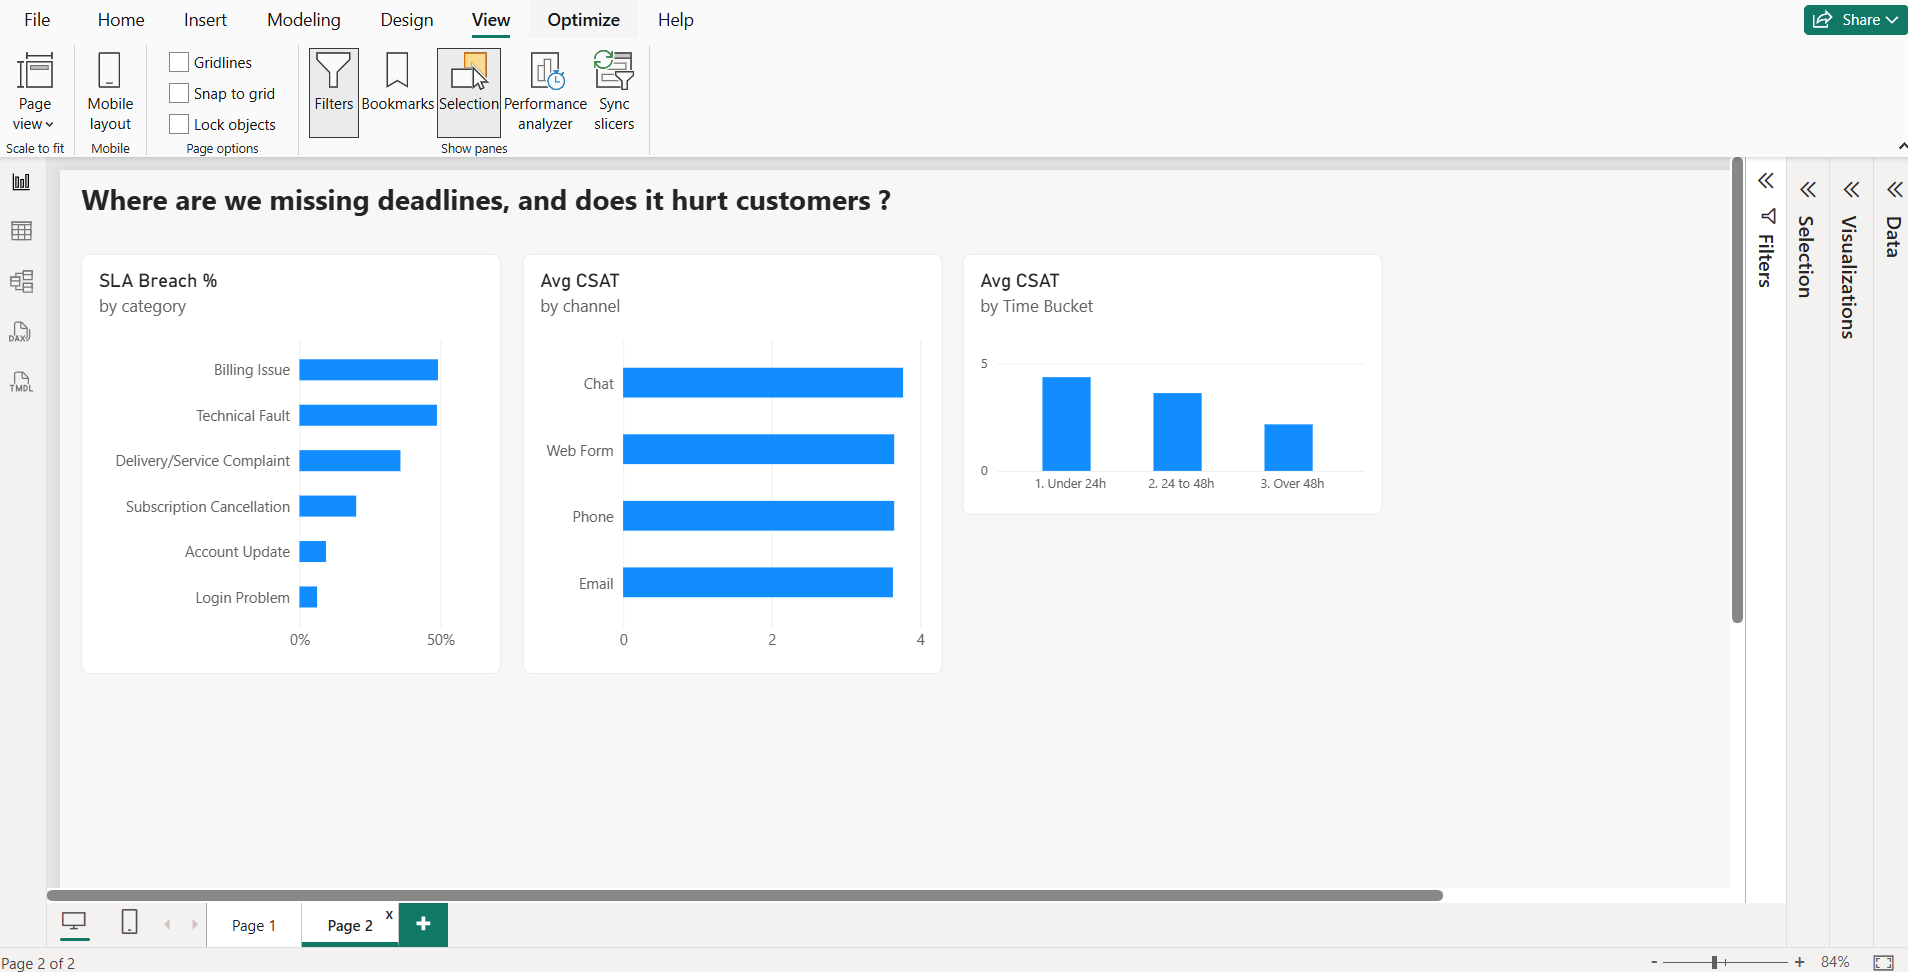

This screenshot's page, from the dashboard's own definition file:
{"tool":"powerbi","page":{"name":"Page 2","canvas":[1920,1080],"ordinal":1},"visuals":[{"type":"barChart","fields":{"Category":["cleaned_tickets.category"],"Y":["cleaned_tickets.SLA Breach %"]},"box":[20,80,400,400],"z":0},{"type":"barChart","fields":{"Category":["cleaned_tickets.channel"],"Y":["cleaned_tickets.Avg CSAT"]},"box":[440,80,400,400],"z":1},{"type":"clusteredColumnChart","fields":{"Category":["cleaned_tickets.Time Bucket"],"Y":["cleaned_tickets.Avg CSAT"]},"box":[860,80,400,249],"z":2},{"type":"textbox","box":[20,10,1200,60],"z":3}]}

Visuals, with their boxes on the page's 1920x1080 design canvas (x1, y1, x2, y2). These are canvas units, not pixel positions in the 1908x972 screenshot, which may show the page scaled, cropped or inside an application window:
barChart - cleaned_tickets.category x cleaned_tickets.SLA Breach %: x1=20, y1=80, x2=420, y2=480
barChart - cleaned_tickets.channel x cleaned_tickets.Avg CSAT: x1=440, y1=80, x2=840, y2=480
clusteredColumnChart - cleaned_tickets.Time Bucket x cleaned_tickets.Avg CSAT: x1=860, y1=80, x2=1260, y2=329
textbox: x1=20, y1=10, x2=1220, y2=70
